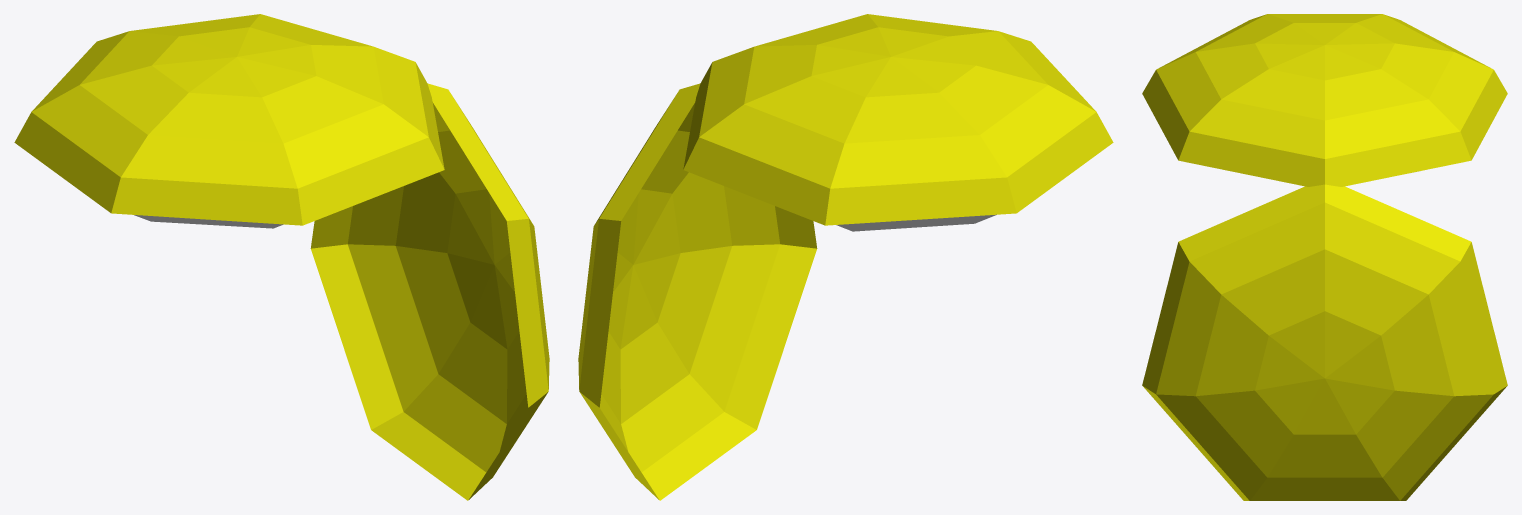
The model's file is compassOpen1a.fbx.
The picture shows the model from 3 angles, left to right: view 1: azimuth 30°, elevation 25°; view 2: azimuth 150°, elevation 25°; view 3: azimuth 270°, elevation 25°; orthographic projection. The views are drawn at different scales.
Visible parts, largest first — view 1: pSphere4, pSphere3, pSphere5; view 2: pSphere4, pSphere3, pSphere5; view 3: pSphere3, pSphere4.
Boxes of the visible parts, left/top/right/bottom form: pSphere4: left=14, top=14, right=444, bottom=225; pSphere3: left=310, top=83, right=549, bottom=500; pSphere5: left=134, top=215, right=283, bottom=228; pSphere4: left=683, top=14, right=1113, bottom=225; pSphere3: left=578, top=83, right=817, bottom=500; pSphere5: left=837, top=214, right=996, bottom=231; pSphere3: left=1142, top=184, right=1507, bottom=500; pSphere4: left=1142, top=14, right=1507, bottom=186.
Bounding box in the file's own units: 5.66 × 5.67 × 4.94.
